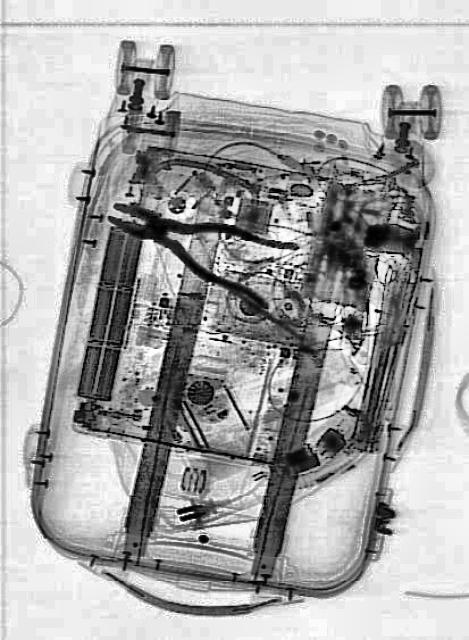Pliers: (98, 171, 298, 317)
